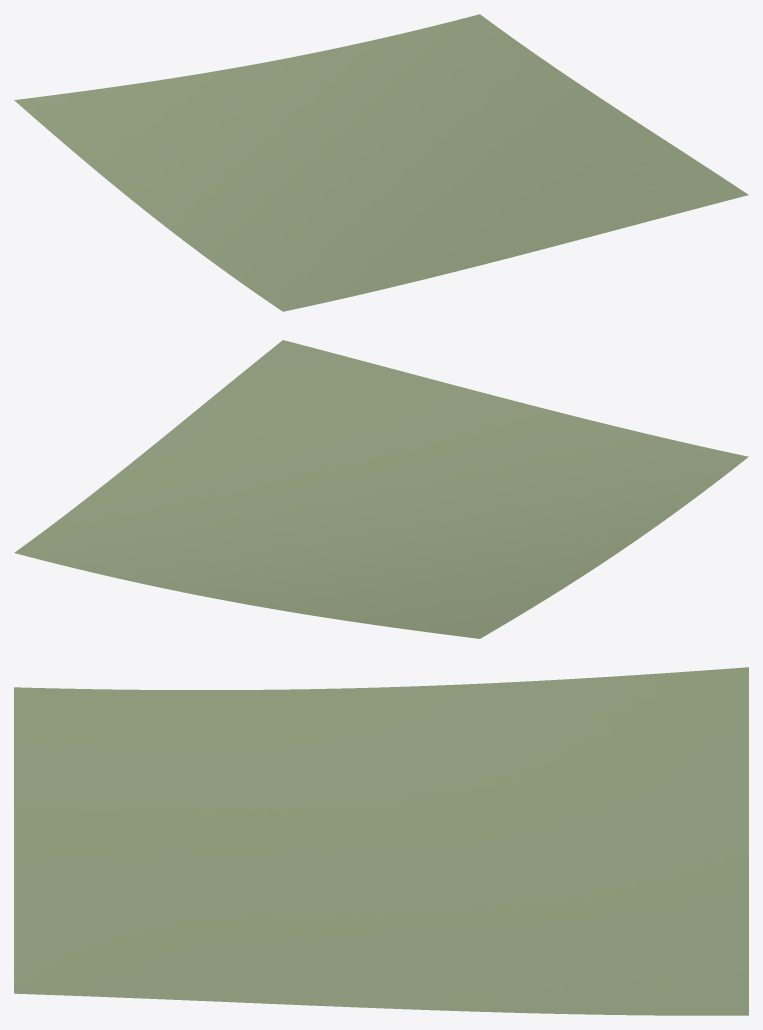
Rendered from alpine-8-14.glb.
The picture shows the model from 3 angles, top to bottom: view 1: azimuth 30°, elevation 25°; view 2: azimuth 150°, elevation 25°; view 3: azimuth 270°, elevation 25°; orthographic projection. The views are drawn at different scales.
Visible parts, largest first — view 1: alpine-8-14; view 2: alpine-8-14; view 3: alpine-8-14.
Part boxes in pixels (x1=…): alpine-8-14: x1=14, y1=14, x2=748, y2=311; alpine-8-14: x1=14, y1=340, x2=748, y2=638; alpine-8-14: x1=14, y1=667, x2=748, y2=1015.
Bounding box in the file's own units: 256 × 15.23 × 256.
